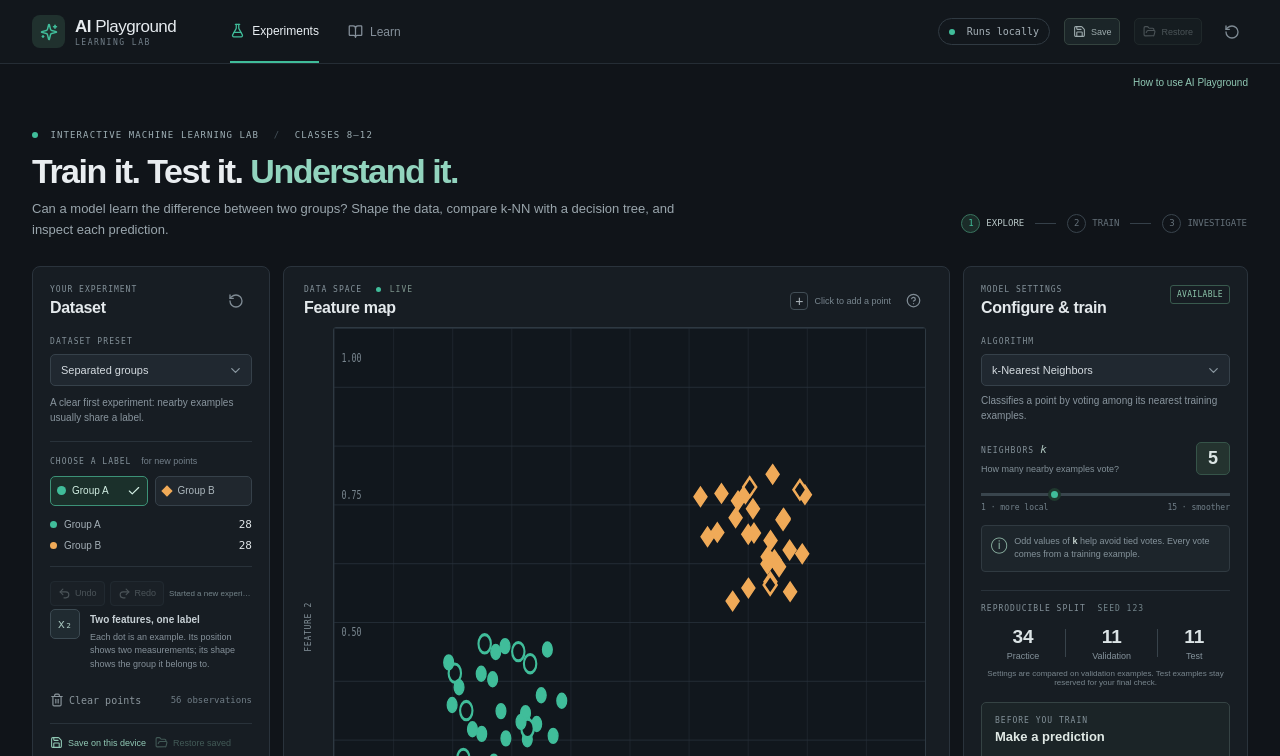
Test case: AI Playground workspace › groups activities into journeys and recommends the next unfinished activity
The width and height of the screenshot is (1280, 756).
Click the button "Learn".
click(374, 32)  # box x1=348 y1=0 x2=401 y2=63
(page scrolled)
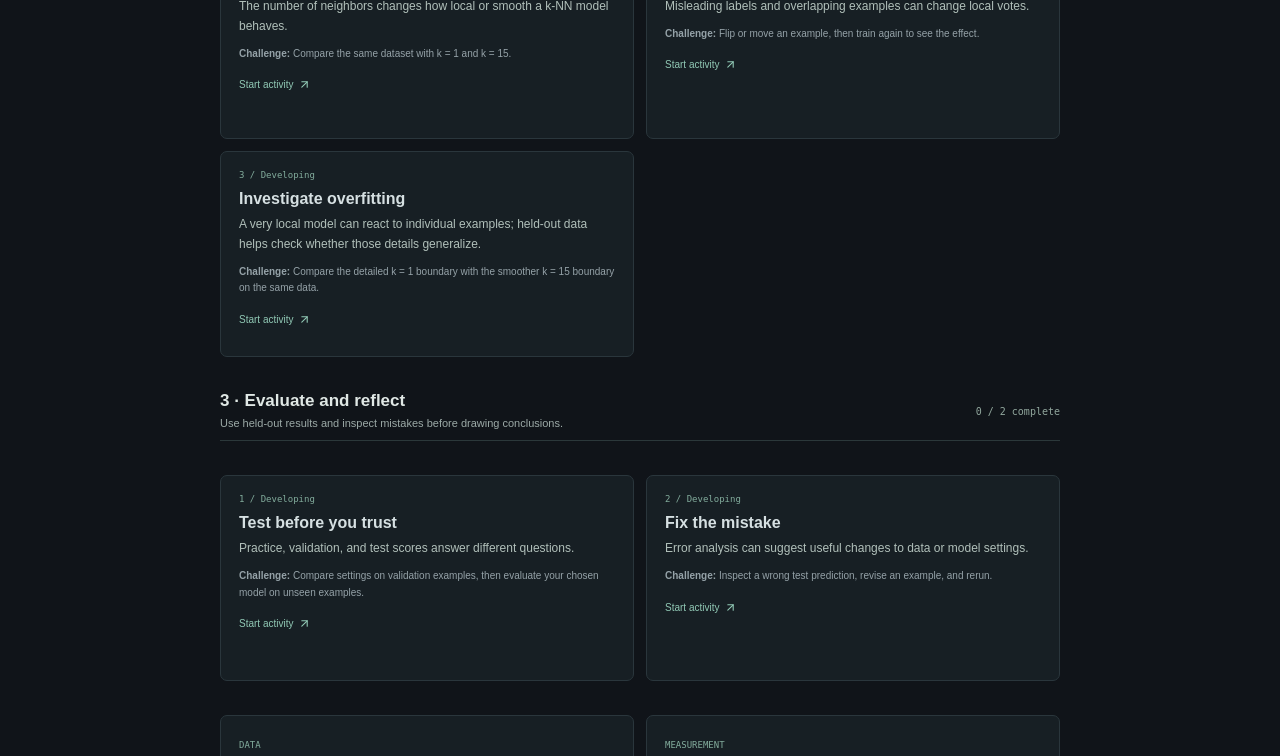
Now the heading "3 · Evaluate and reflect" is shown, box x1=220 y1=391 x2=405 y2=410
